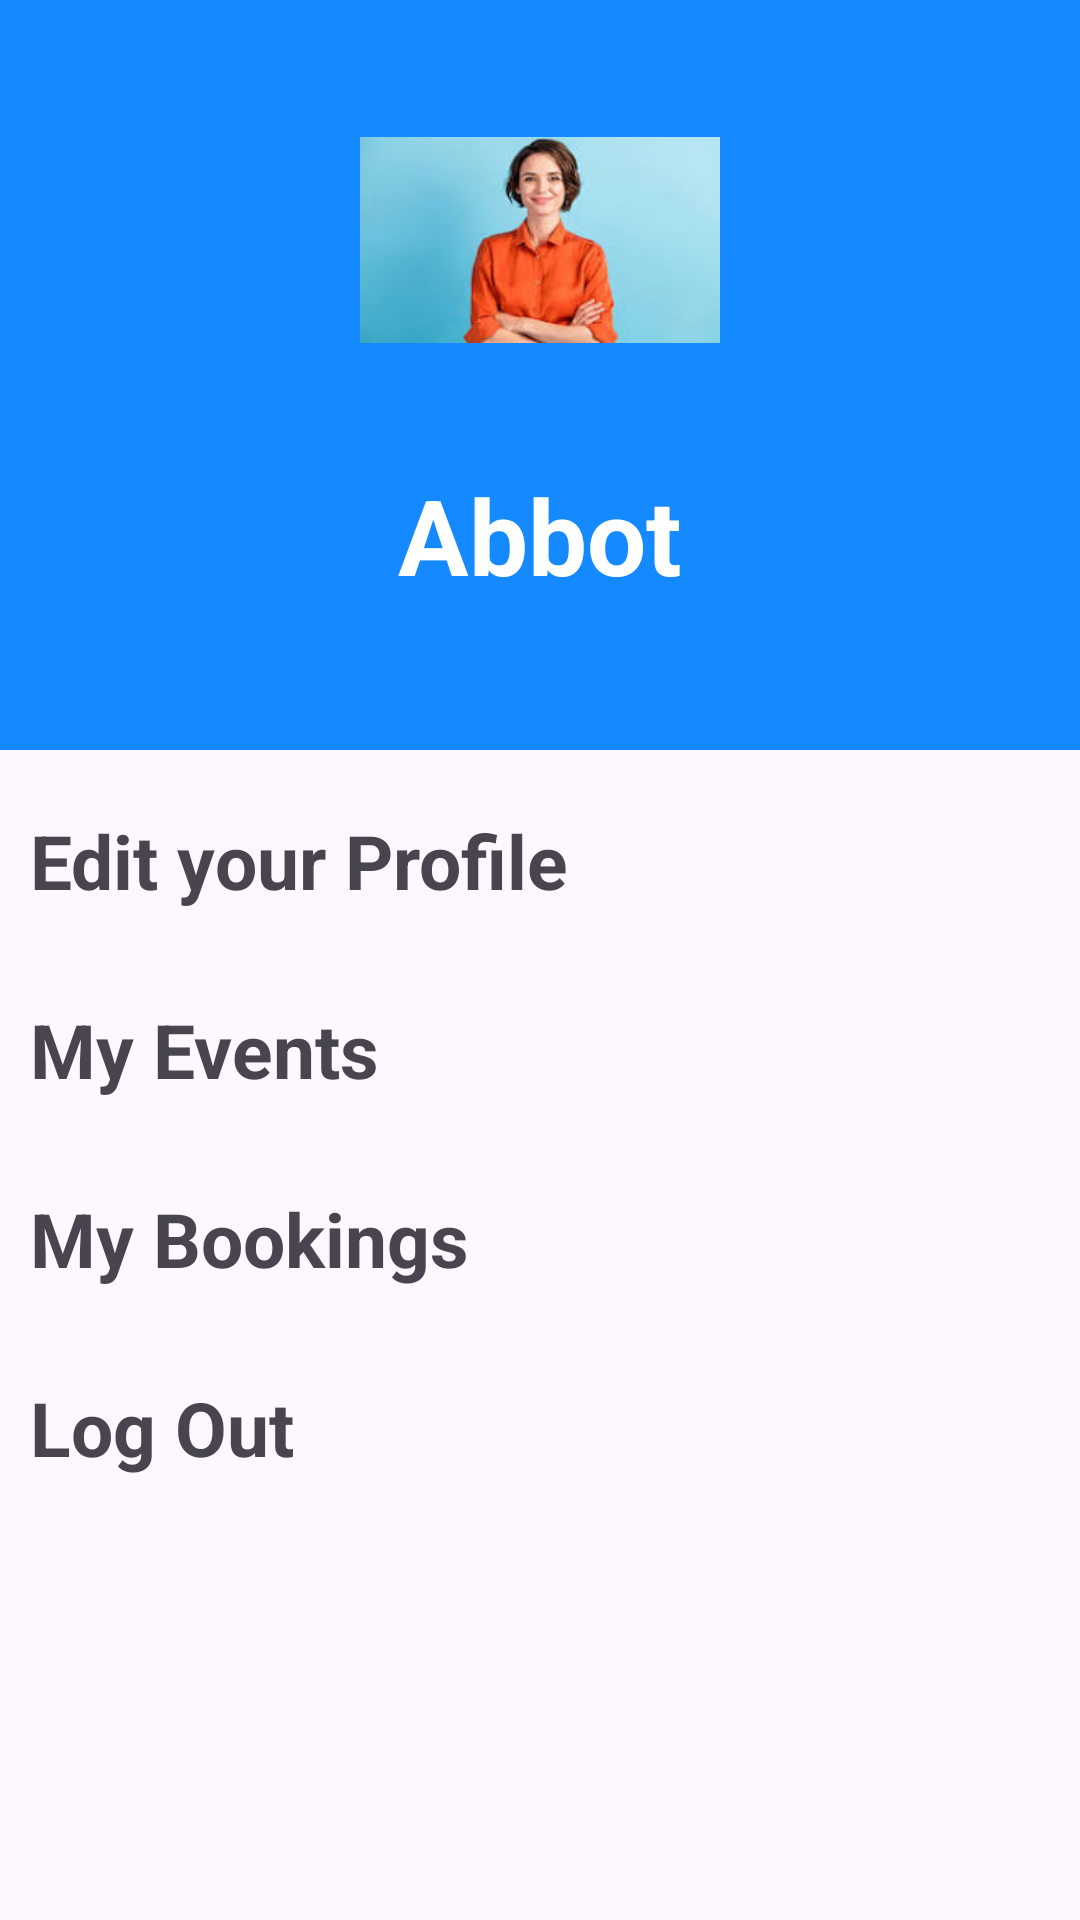

Icons on this 1080 × 1920 Android screen, each with its box as (x1, y1, x2, y2):
person: (360, 137, 720, 343)
